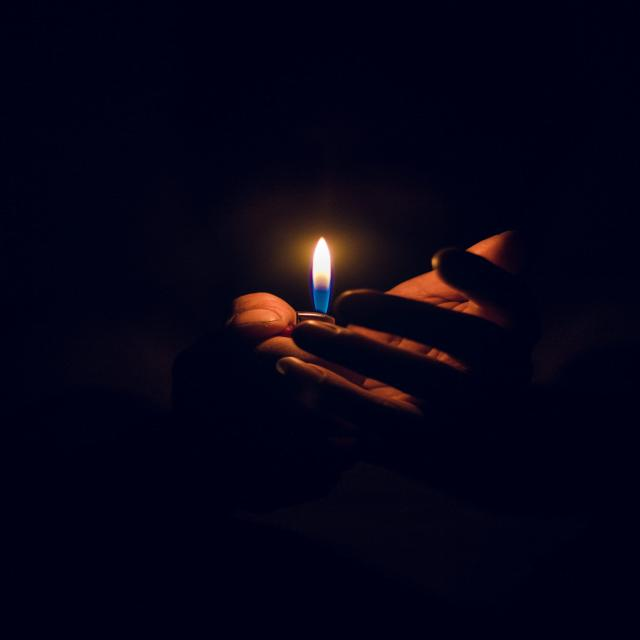fire: (309, 237, 334, 314)
